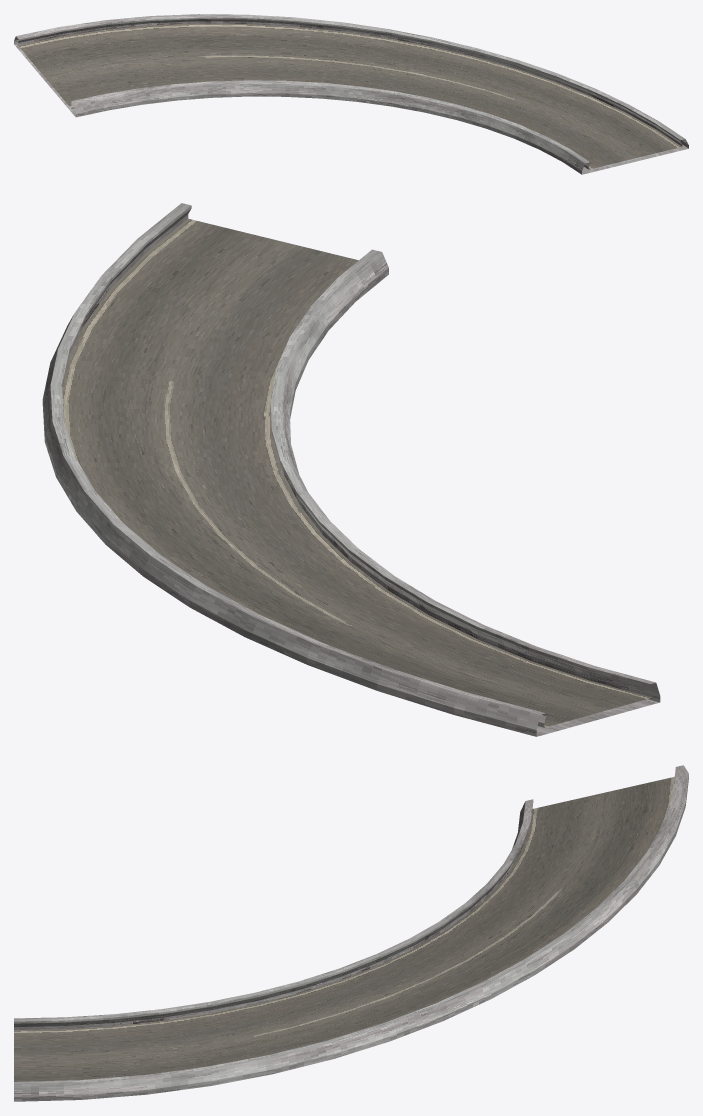
File: road-Turn-Flat-HalfBankedLeft-Even-Left-Size4.glb
The picture shows the model from 3 angles, top to bottom: view 1: azimuth 30°, elevation 25°; view 2: azimuth 150°, elevation 25°; view 3: azimuth 270°, elevation 25°; orthographic projection. The views are drawn at different scales.
Parts seen in each view (by area): view 1: road-Turn-Flat-HalfBankedLeft-Even-Left-Size4; view 2: road-Turn-Flat-HalfBankedLeft-Even-Left-Size4; view 3: road-Turn-Flat-HalfBankedLeft-Even-Left-Size4.
Boxes of the visible parts, <box> form: road-Turn-Flat-HalfBankedLeft-Even-Left-Size4: <box>14,14,688,174</box>; road-Turn-Flat-HalfBankedLeft-Even-Left-Size4: <box>42,203,660,736</box>; road-Turn-Flat-HalfBankedLeft-Even-Left-Size4: <box>14,765,688,1101</box>.
Bounding box in the file's own units: 4 × 0.3359 × 4.
2 materials, 2 textured.
